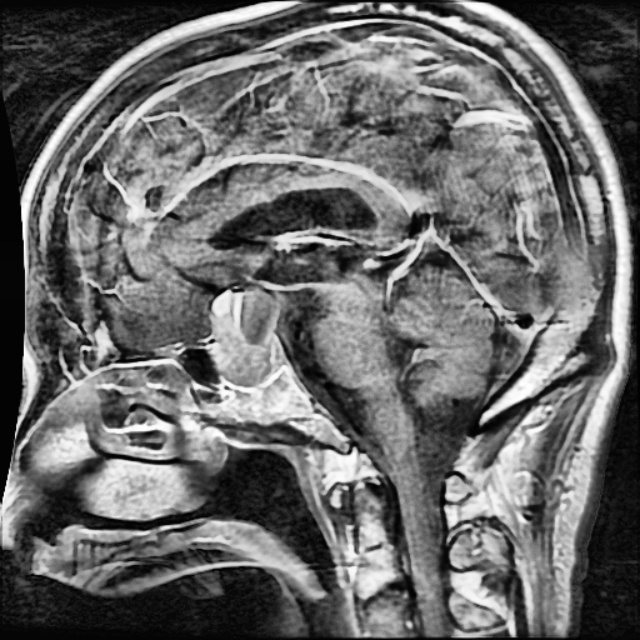Pituitary: (212, 285, 282, 388)
